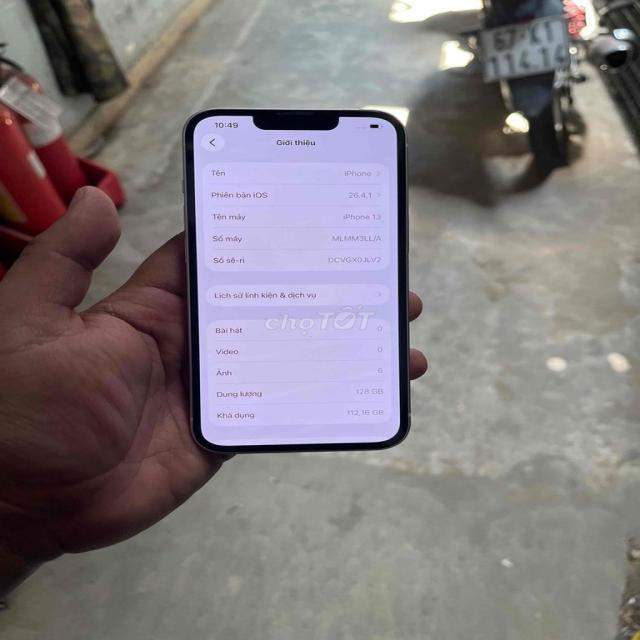gen_12_13: (188, 110, 430, 458)
